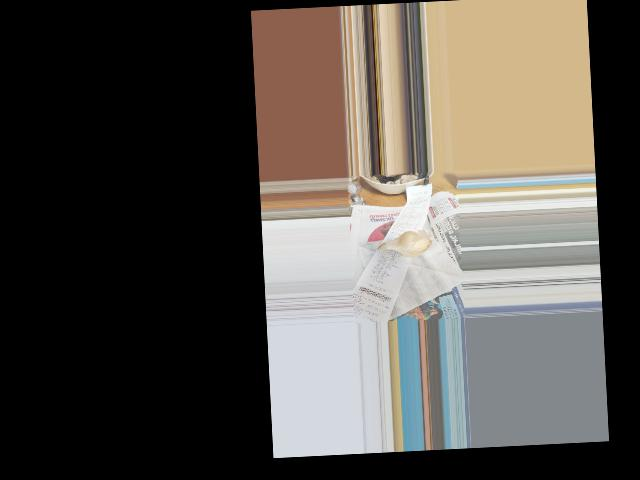onion: (383, 230, 431, 259)
